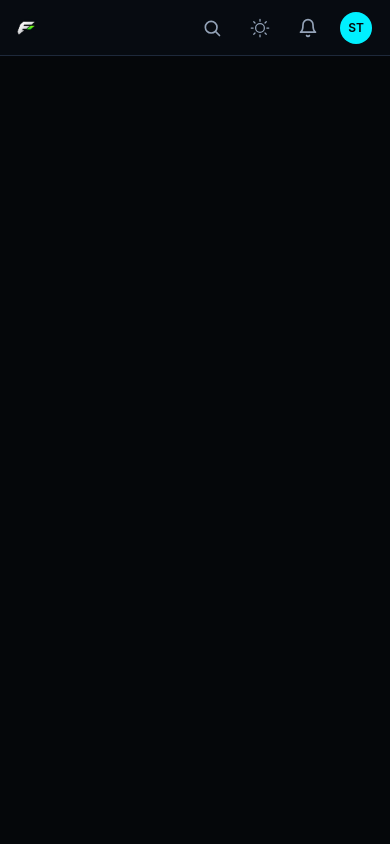
MobileHeader › créateur : le menu expose le Creator Studio
Click the button with aria-label "Ouvrir le menu du compte".
click(356, 28)  # box [334,6,378,50]
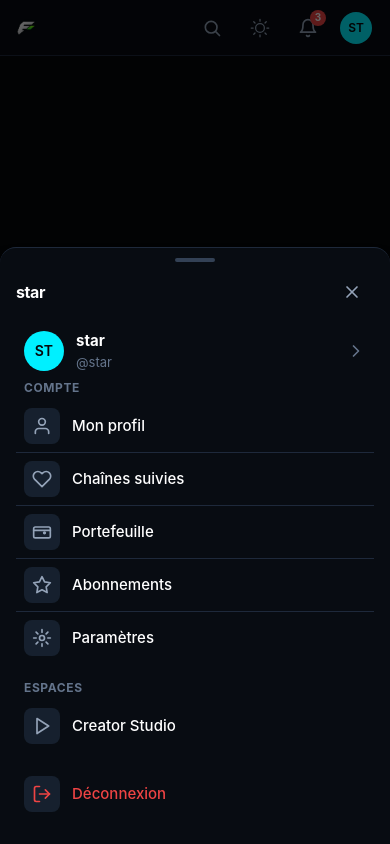
Result: the link "Creator Studio" is shown at [24,708,176,744]
